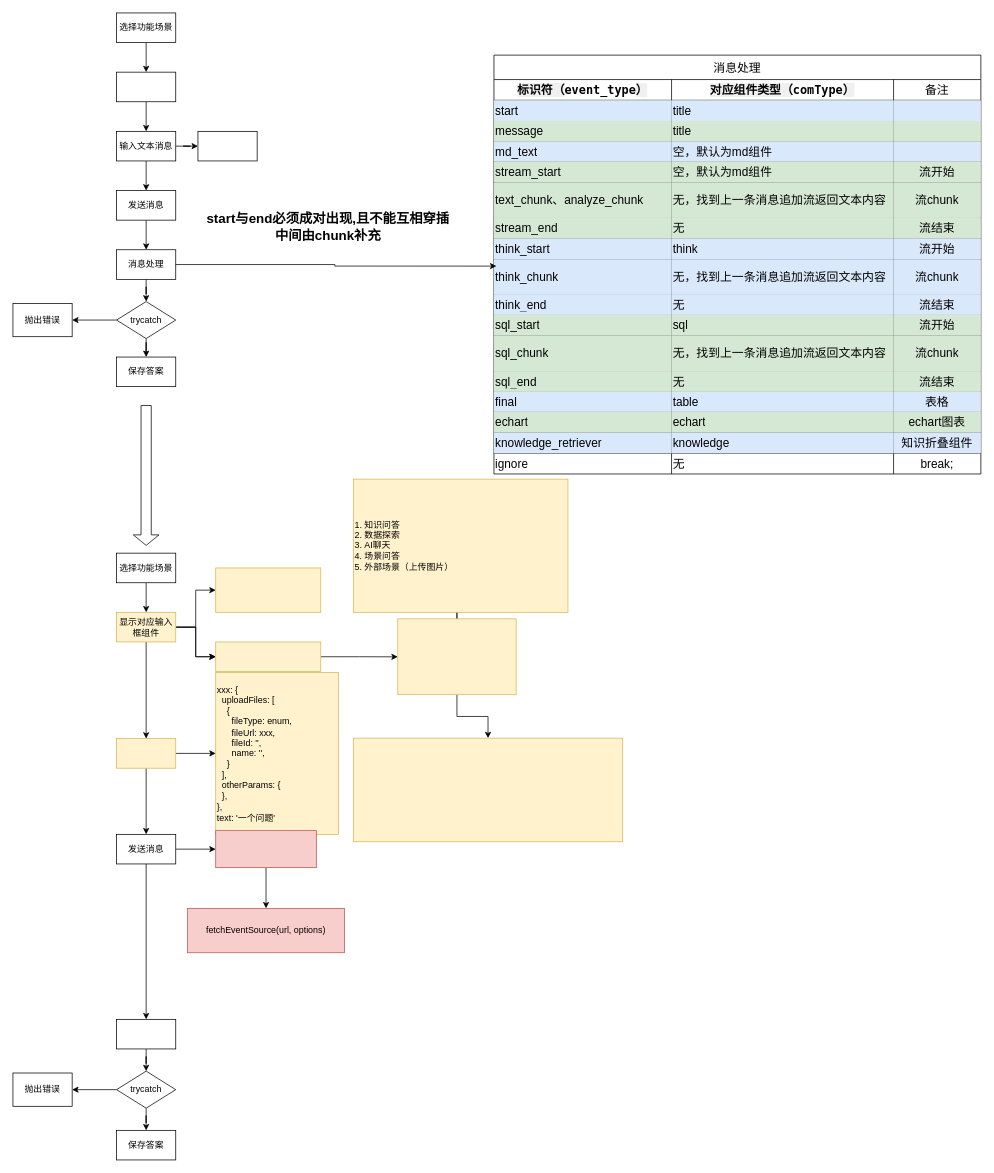
This 994x1173 diagram has some shape labels left out. Each missing label, with the box of its shape:
0. 顶部场景切换区域 1. 左下角功能区域 2. 右下角前缀区域 3. 顶部上传预览区域: (397, 618, 516, 695)
text: (197, 131, 257, 161)
一个input+对应场景组件: (116, 71, 176, 102)
个性化输入: (116, 738, 176, 768)
封装多个input组件: (215, 641, 321, 672)
封装多个问题回显组件 img,xlsx... 小组件支持预览: (215, 567, 321, 612)
是否需要修改现有 直接调用url逻辑？: (215, 830, 316, 868)
消息处理 （同上）: (116, 1019, 176, 1049)
